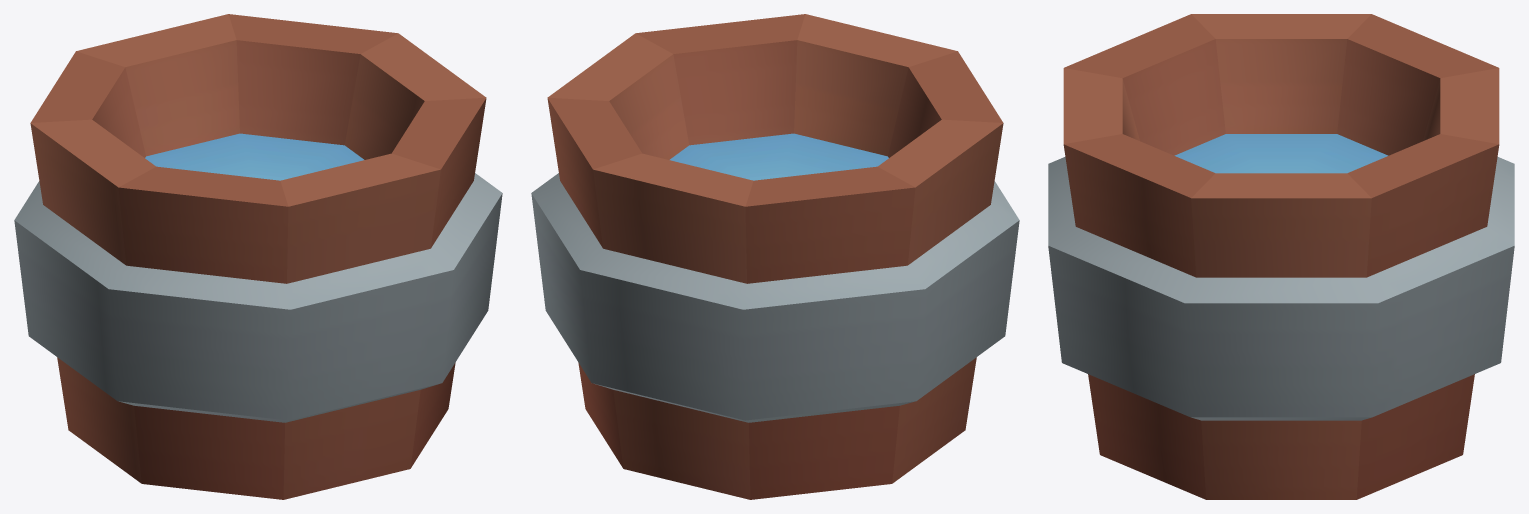
File: kk_bucket_v1.glb
3 renders of one model, left to right at view 1: azimuth 30°, elevation 25°; view 2: azimuth 150°, elevation 25°; view 3: azimuth 270°, elevation 25°, orthographic. The views are drawn at different scales.
Parts seen in each view (by area): view 1: bucket_water; view 2: bucket_water; view 3: bucket_water.
Part boxes in pixels (x1=…): bucket_water: x1=14, y1=14, x2=502, y2=499; bucket_water: x1=531, y1=14, x2=1019, y2=499; bucket_water: x1=1048, y1=14, x2=1514, y2=499.
Size of the model in its own units: 0.14 by 0.105 by 0.14.
1 material, 1 textured.
